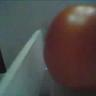tomato: (42, 4, 96, 94)
